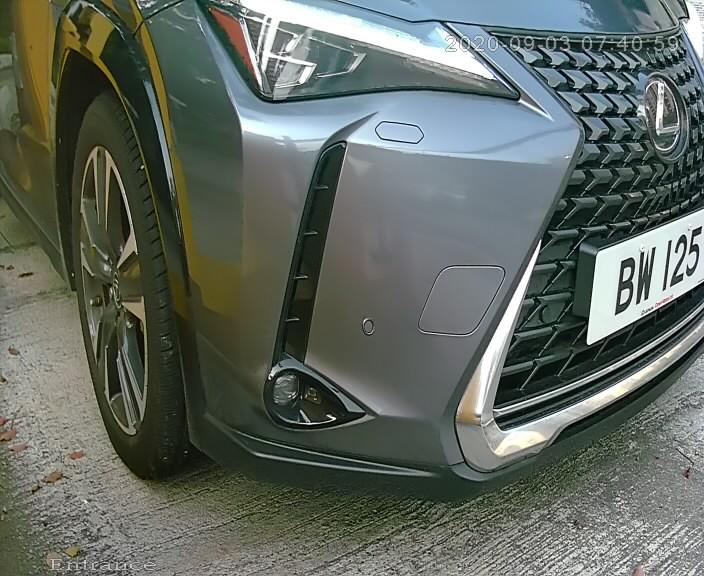License Plate: (585, 209, 704, 357)
